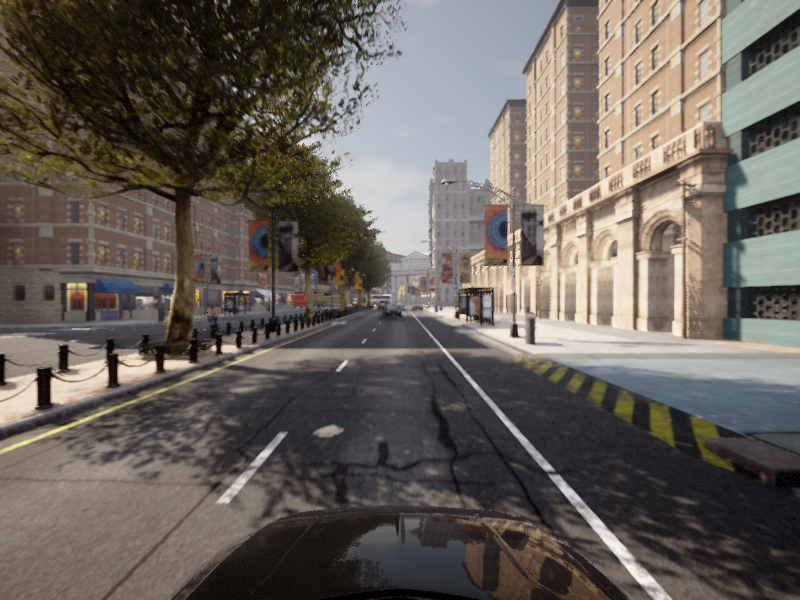vehicle: (1, 1, 799, 599), (158, 305, 190, 328), (198, 305, 224, 333), (380, 305, 402, 318)
